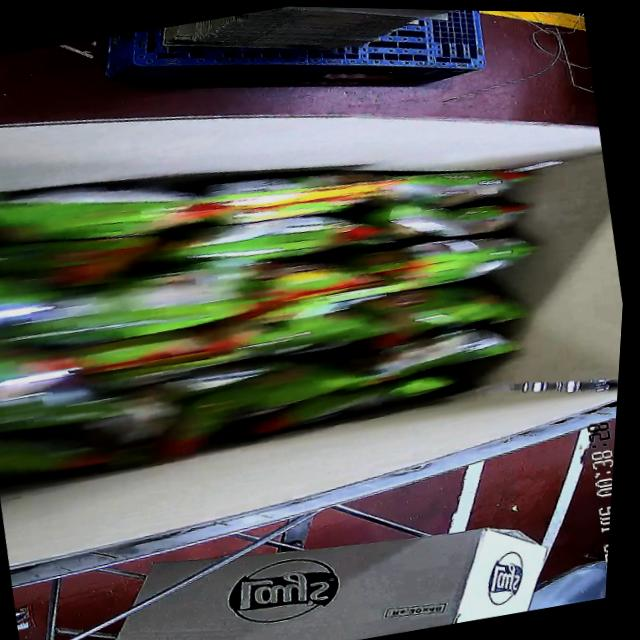YOGURT_HERB: (0, 80, 583, 502)
